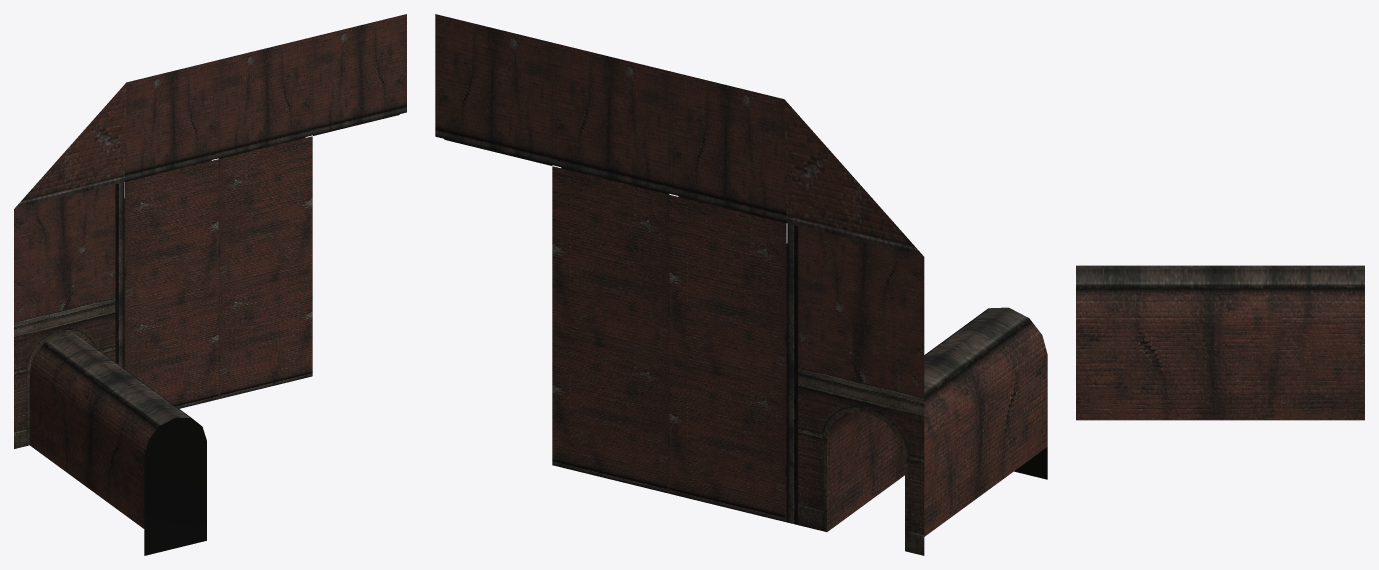
File: TrainStationTunel.fbx
3 views of the same model, side by side, from view 1: azimuth 30°, elevation 25°; view 2: azimuth 150°, elevation 25°; view 3: azimuth 270°, elevation 25° (orthographic). The views are drawn at different scales.
Visible parts, largest first — view 1: TrainStationTunel; view 2: TrainStationTunel; view 3: TrainStationTunel.
Boxes of the visible parts, bbox=[...] form: TrainStationTunel: bbox=[14, 14, 406, 555]; TrainStationTunel: bbox=[435, 14, 1047, 555]; TrainStationTunel: bbox=[1076, 265, 1364, 420].
Bounding box in the file's own units: 6.93 × 6.17 × 3.5.
